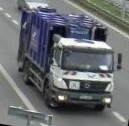truck: (8, 3, 128, 117)
